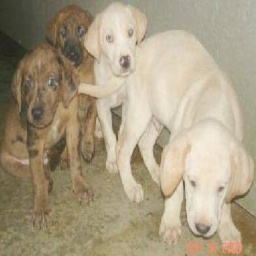dog: (9, 5, 256, 254)
